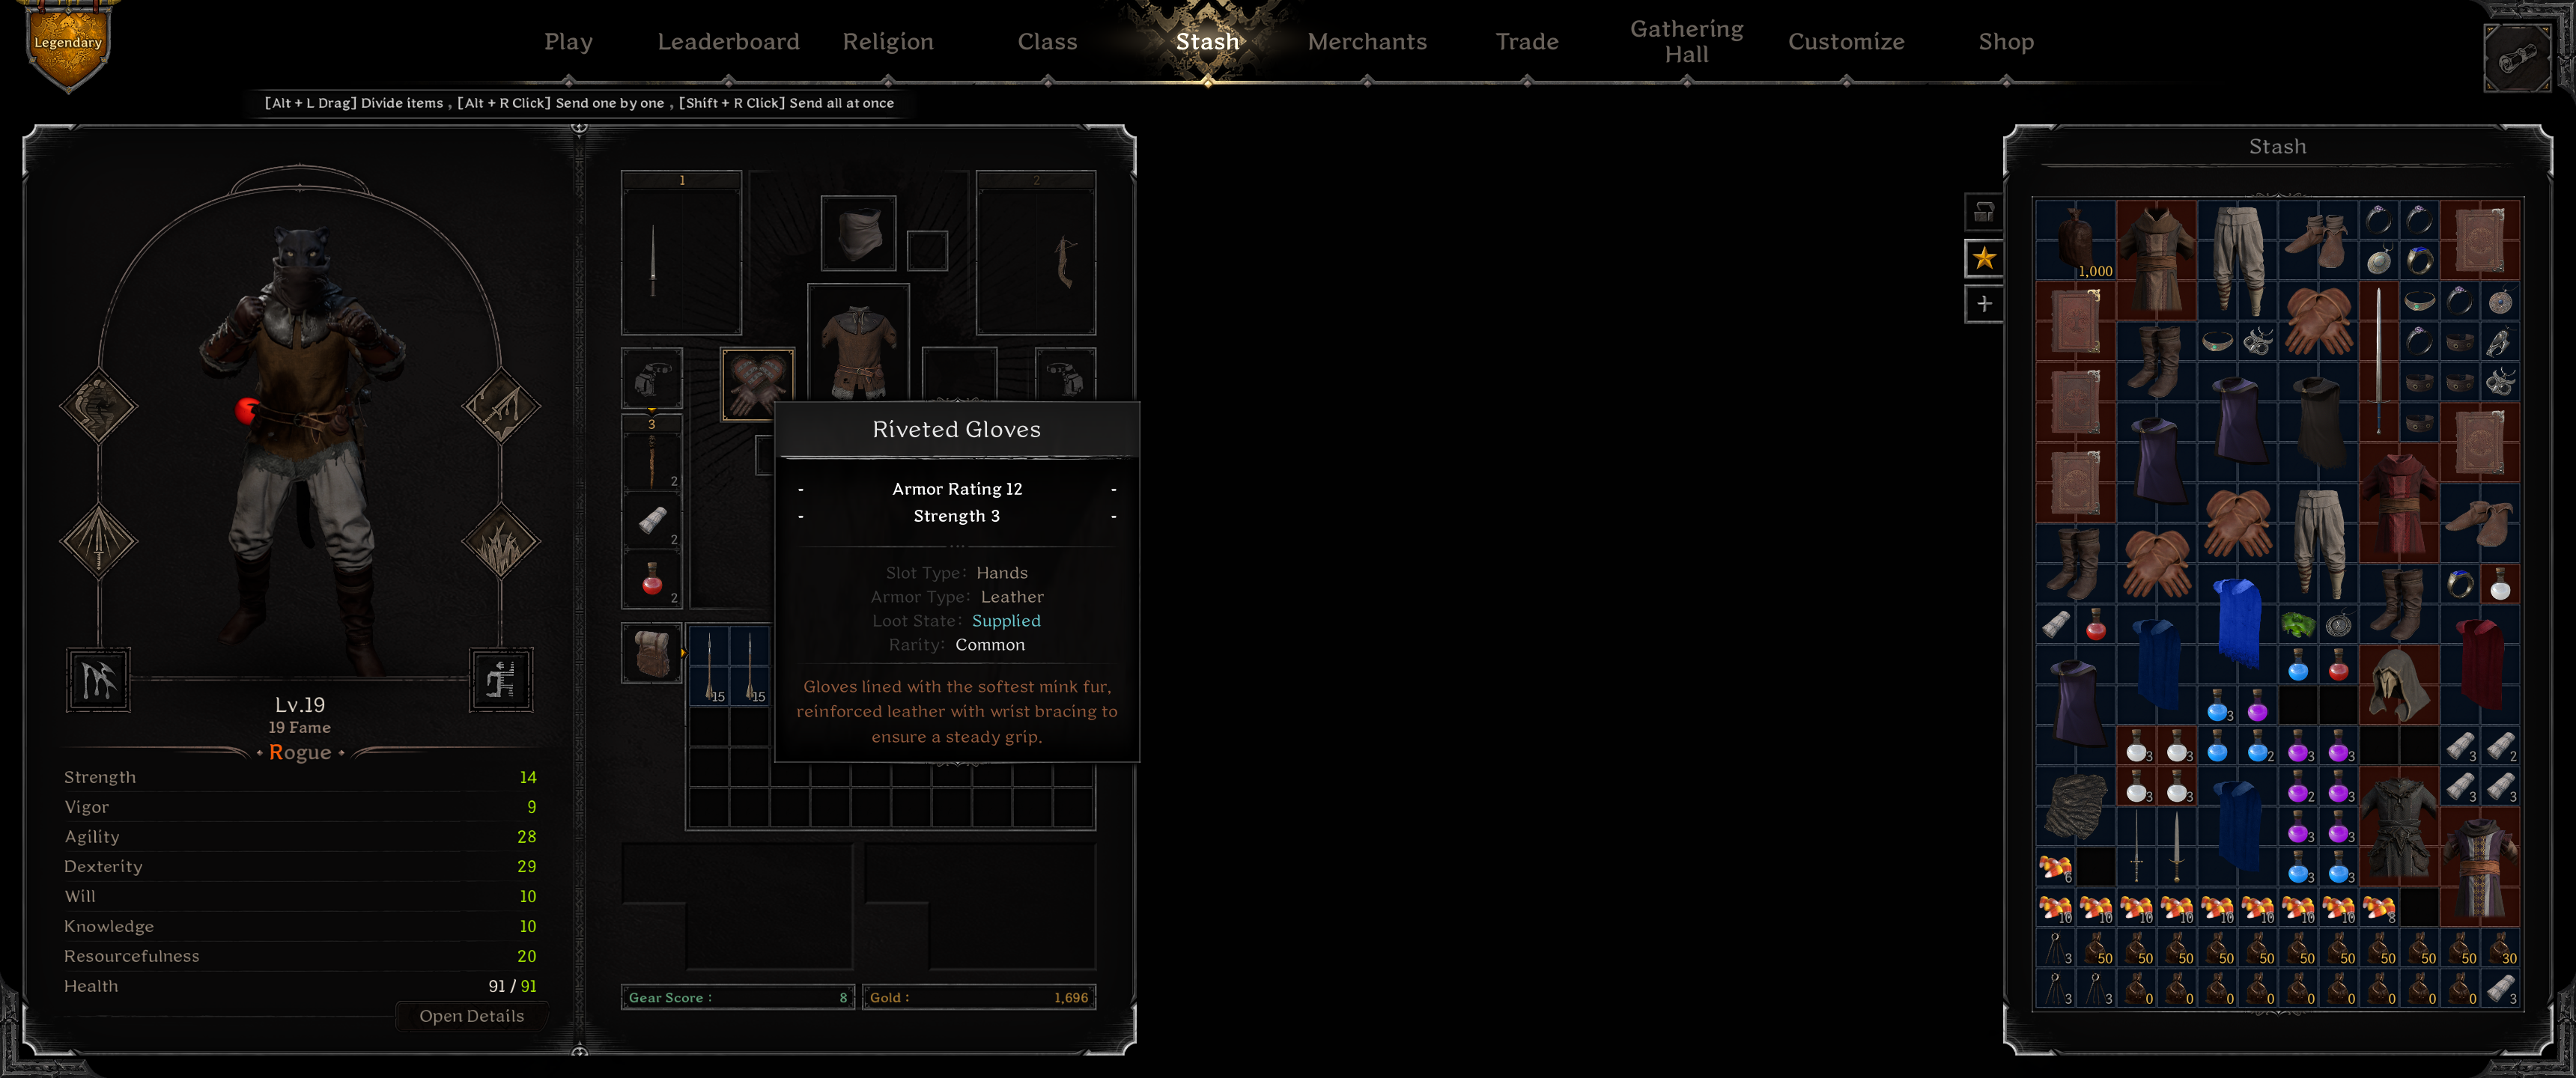Tooltip: (772, 399, 1142, 764)
